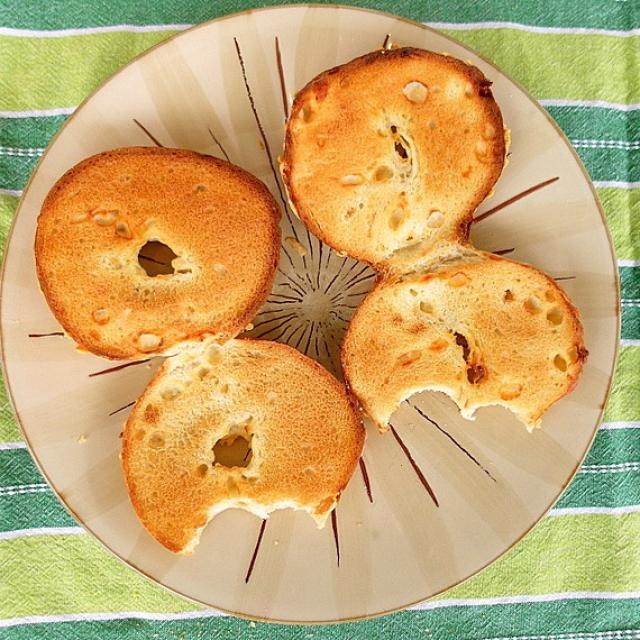Bagel: (121, 339, 365, 553), (35, 148, 281, 360), (281, 48, 508, 271), (341, 254, 588, 429)
